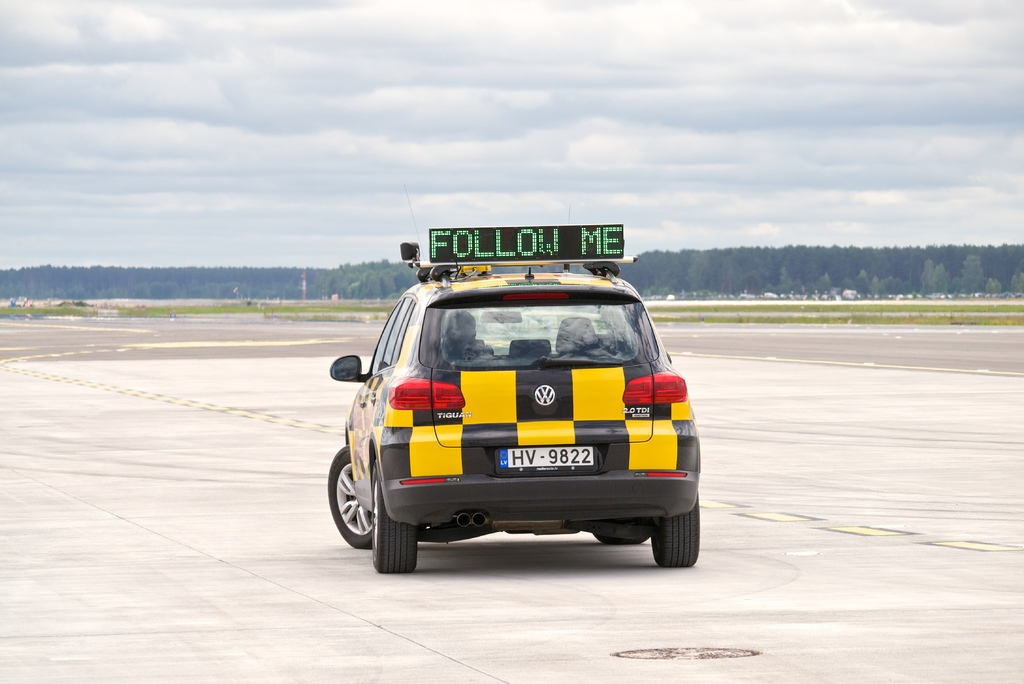Car: (325, 182, 696, 571)
